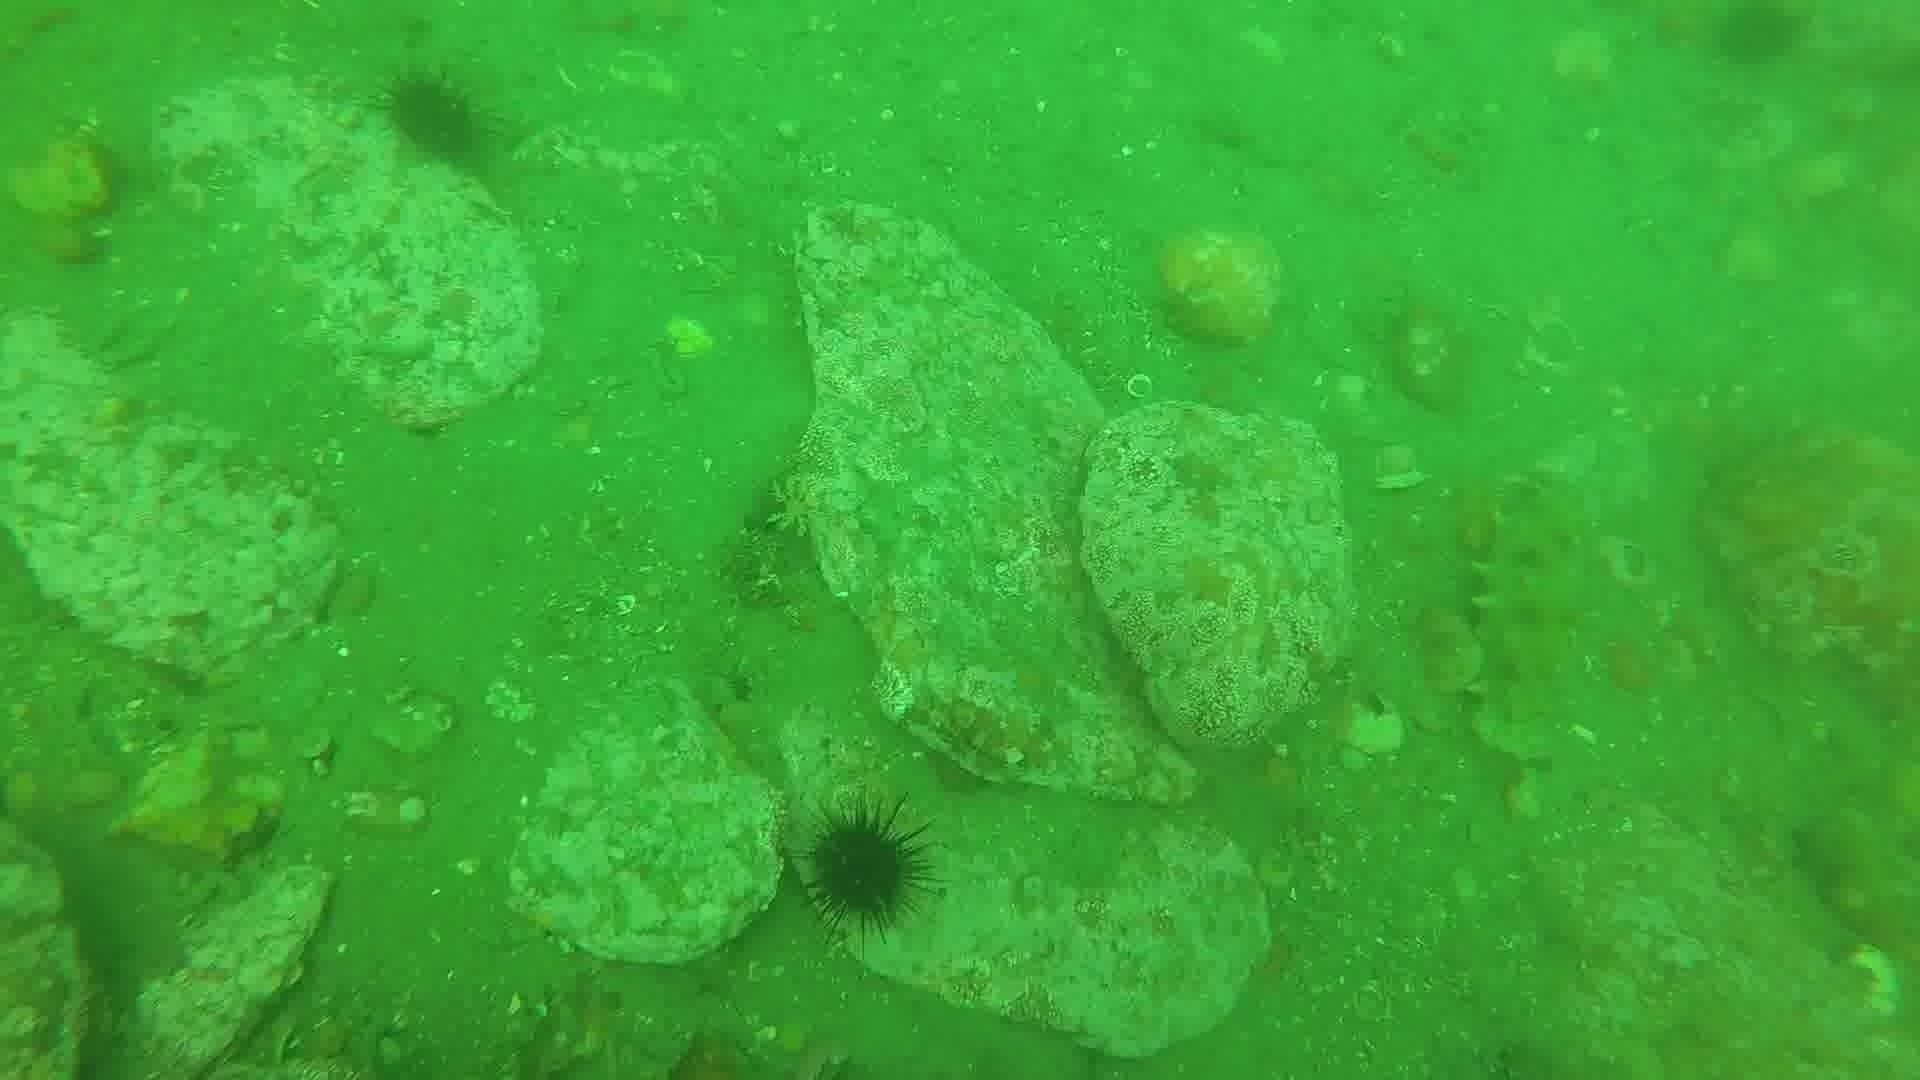echinus: (796, 799, 939, 939), (375, 67, 491, 170), (1706, 3, 1811, 71)
holothurian: (1458, 480, 1594, 766)
